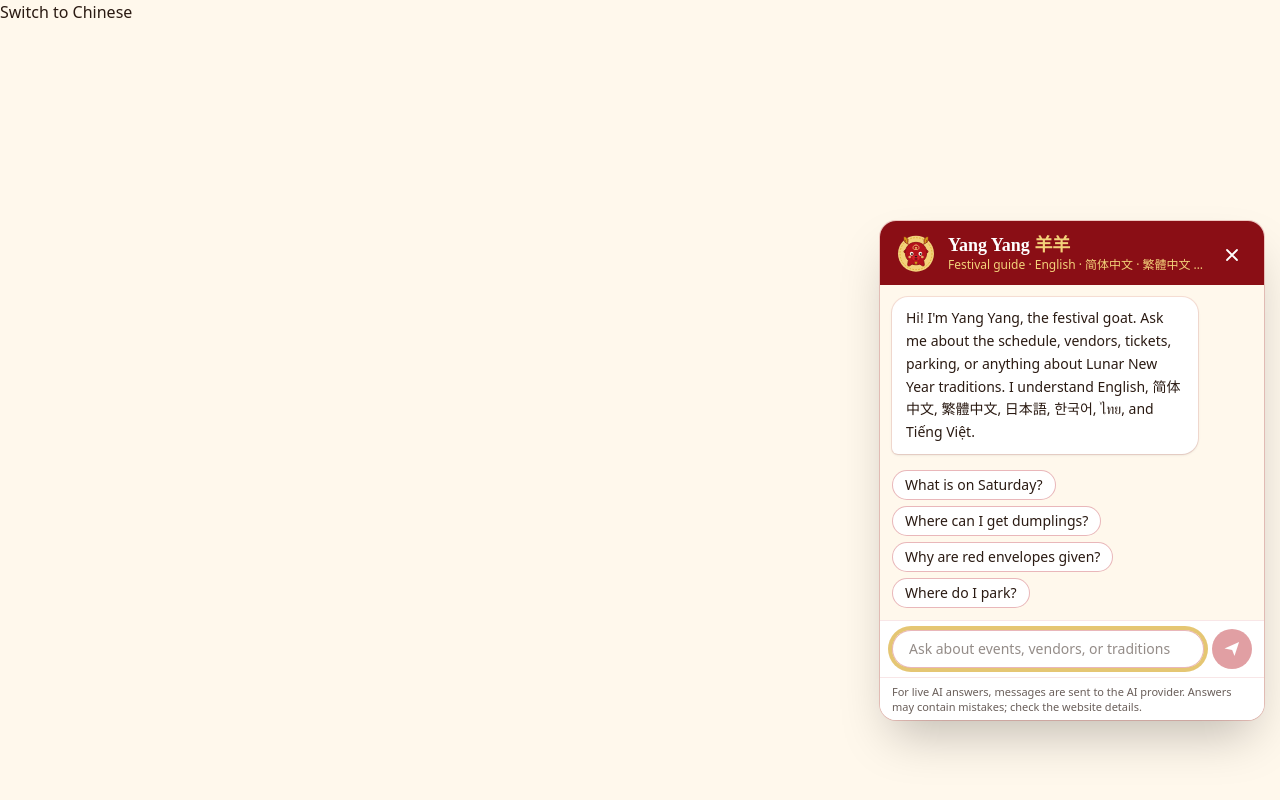
chat panel source-of-truth and recovery › answers the en event-address question locally even with live AI configured
Type "where is the address of the event" into the field with test id "chat-input" at (1048, 649), box [892,630,1204,668]
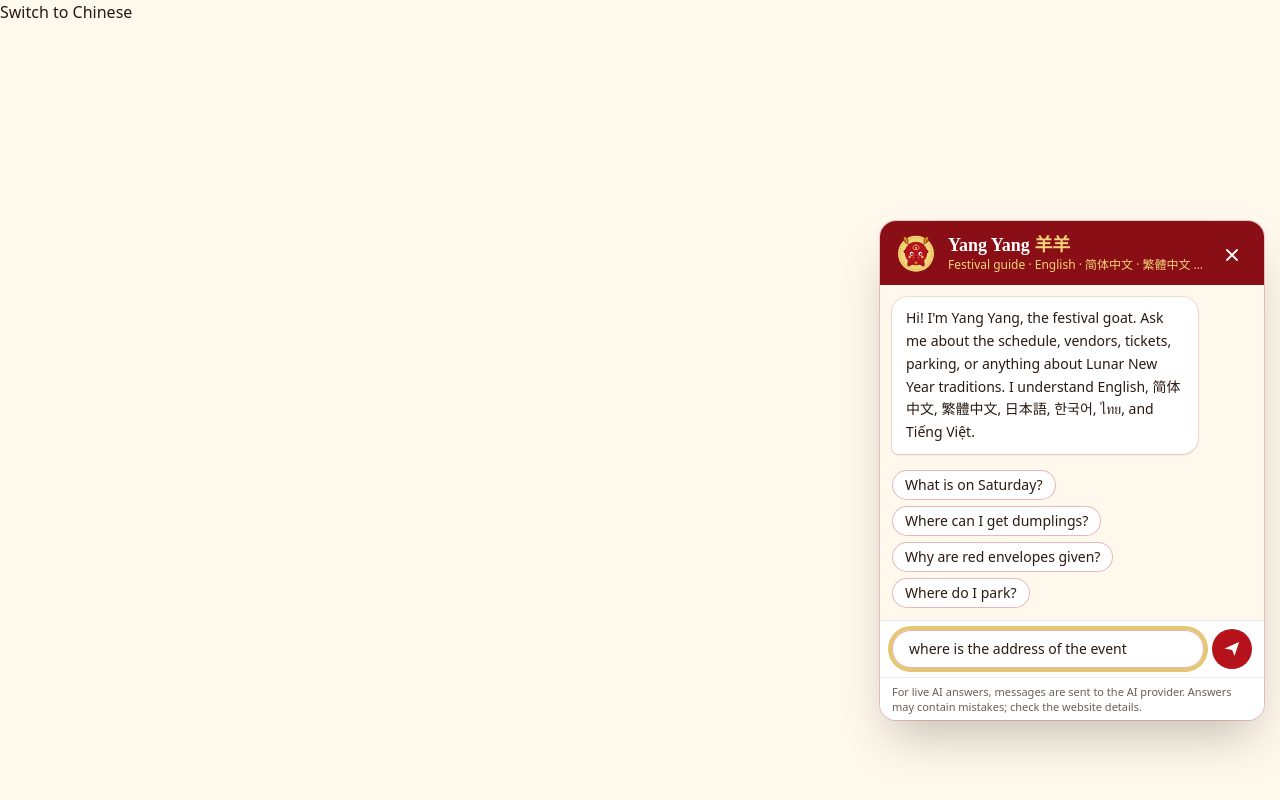
Click the button with test id "chat-send" at (1232, 649), box [1212,629,1252,669]
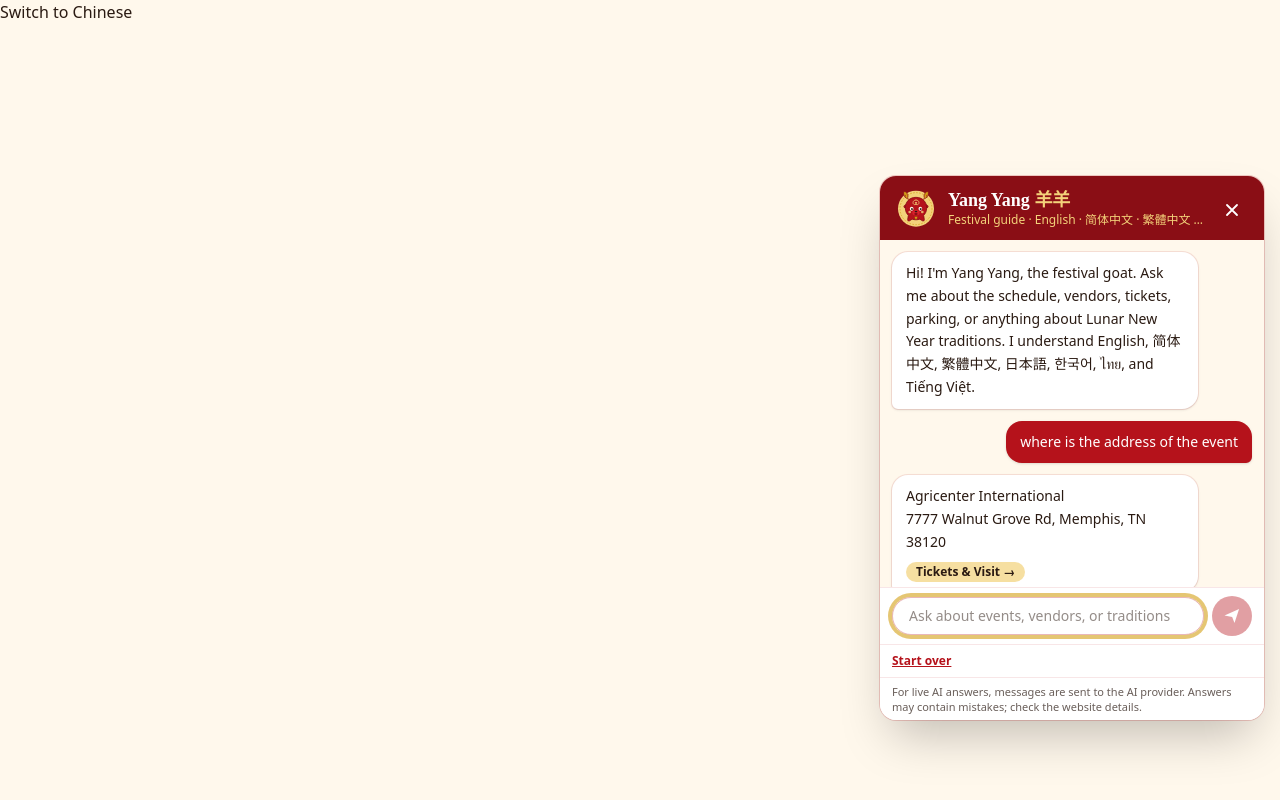
Now the number of elements with test id "chat-bot" is 2, box [892,252,1198,408]; [892,475,1198,587]
Now the element with test id "chat-bot" shows "7777 Walnut Grove Rd, Memphis, TN 38120", box [906,486,1146,551]
Now the element with test id "chat-bot" shows "Agricenter International", box [906,486,1146,551]
